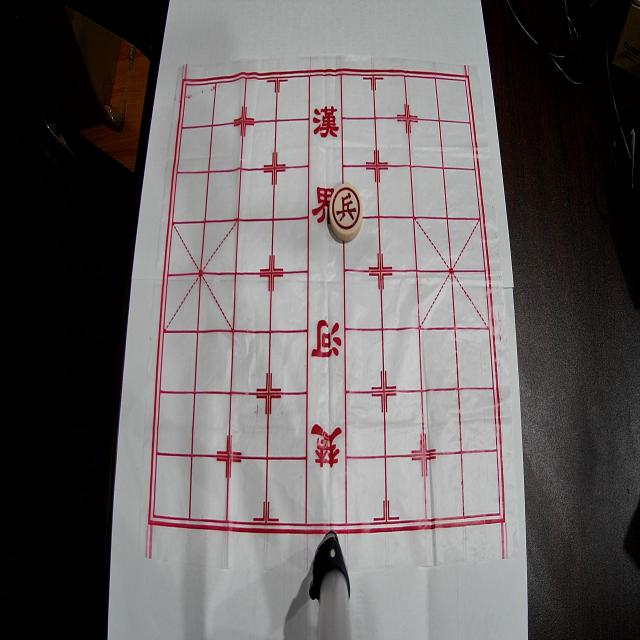red-soldier: (330, 184, 362, 242)
